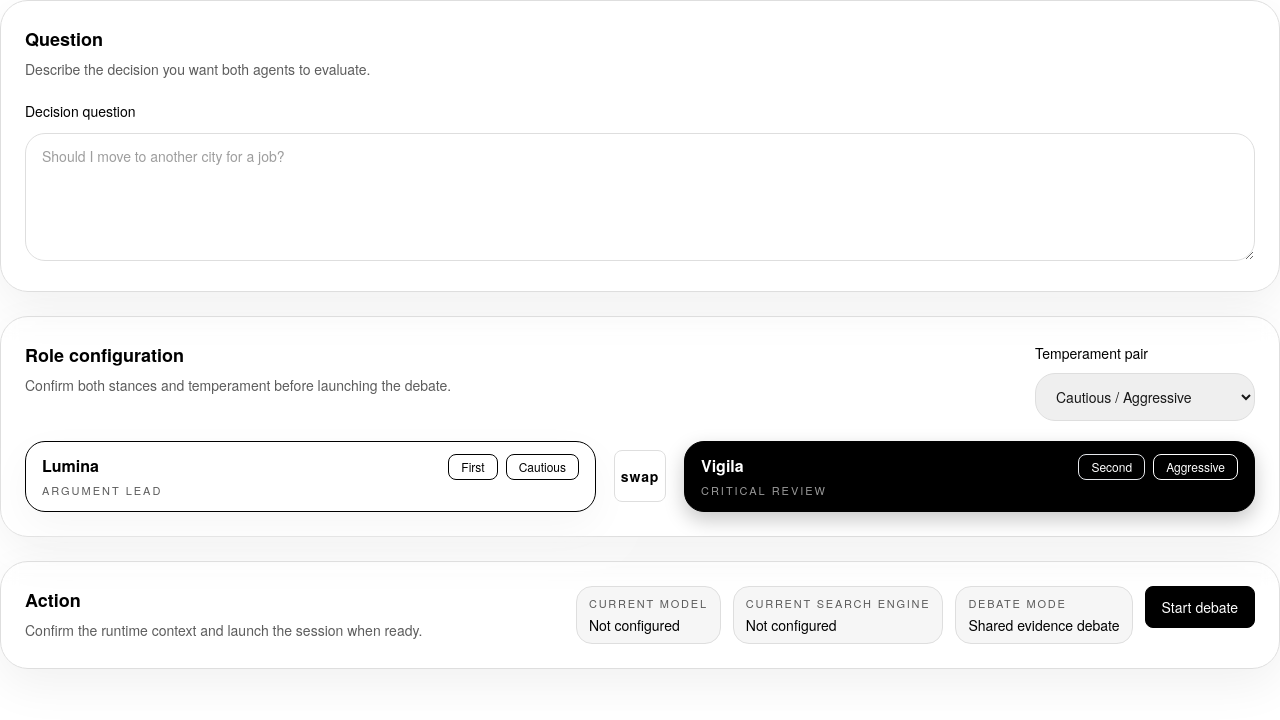
Test: SessionShell › shows persisted diagnosis details when polling returns a diagnosed session
Step 1. Type "Should I move to another city?" into the text box labelled "Decision question" → (640, 197), box [25,133,1255,261]
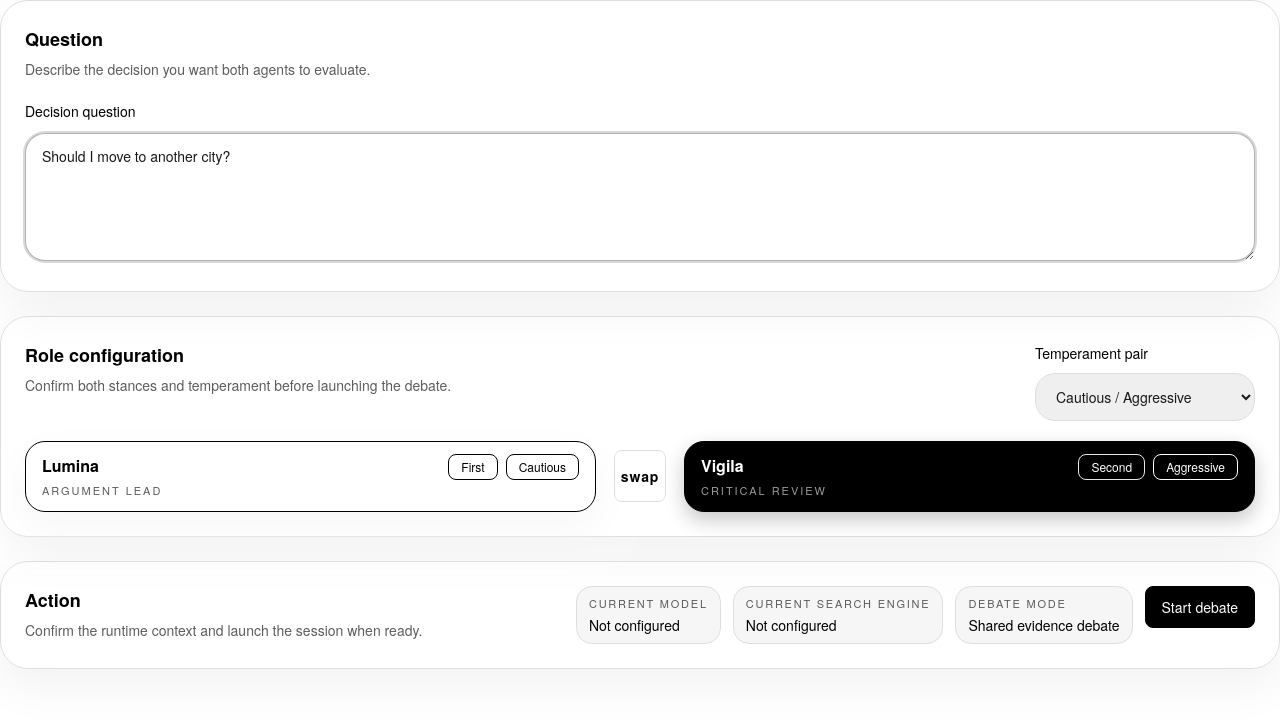
Step 2. Click the button "Start debate" → (1200, 606), box [1145,586,1255,628]
(page scrolled)
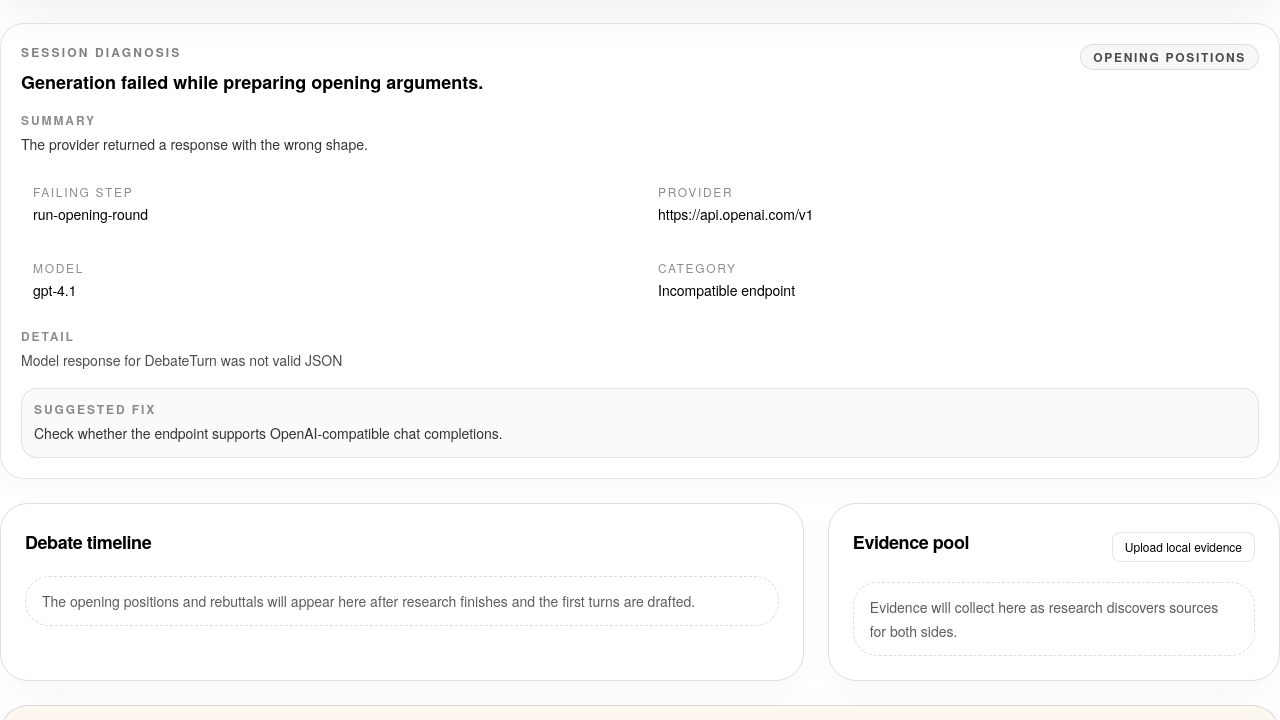
Expected: the element "Session diagnosis" is shown
Expected: the text "https://api.openai.com/v1" is shown, [658,204,814,224]
Expected: the text "gpt-4.1" is shown, [33,280,76,300]
